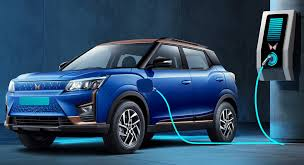XUV 400: (6, 36, 239, 155)
